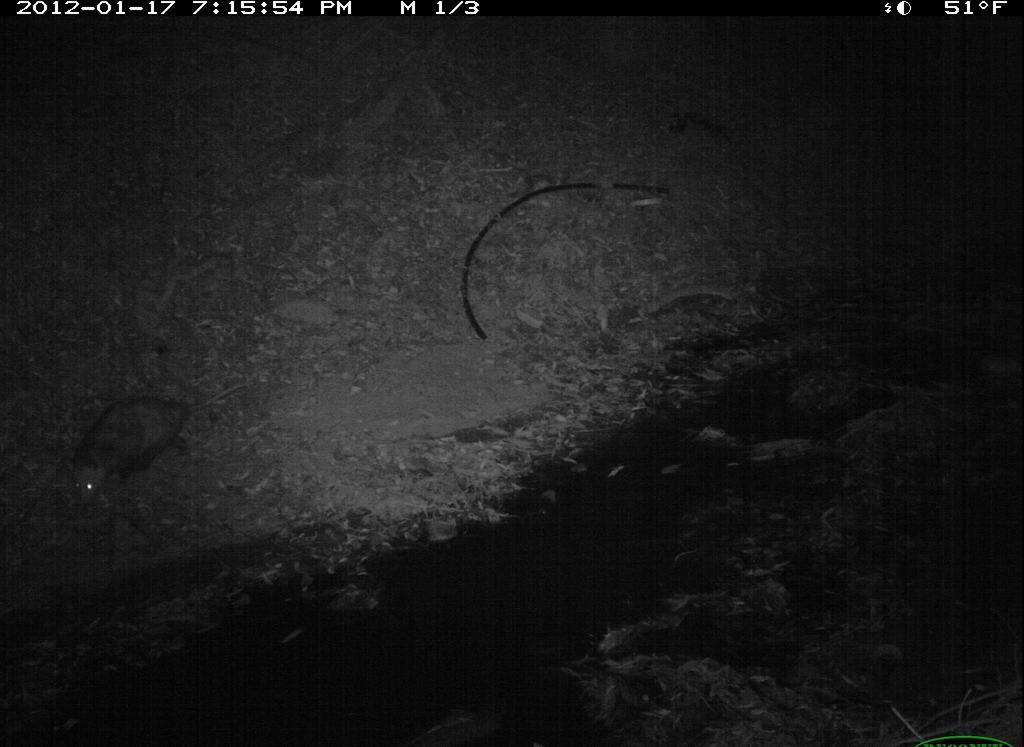opossum: (62, 376, 263, 515)
